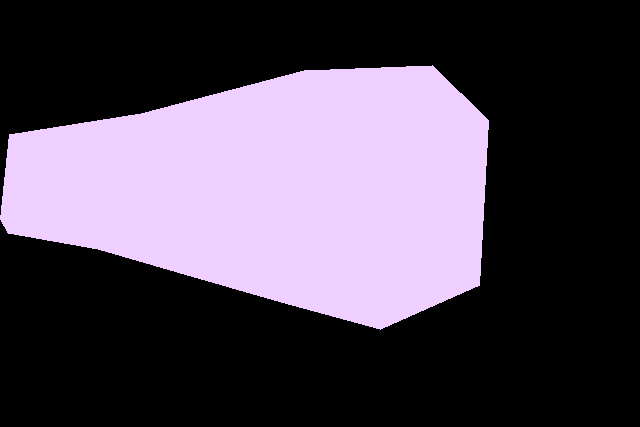Train: (0, 65, 488, 329)
